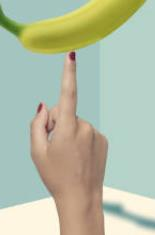up: (29, 49, 110, 204)
